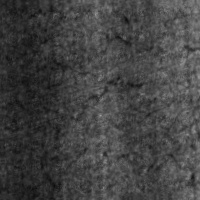crazing: (16, 56, 151, 119), (38, 139, 179, 184), (87, 12, 196, 56)
